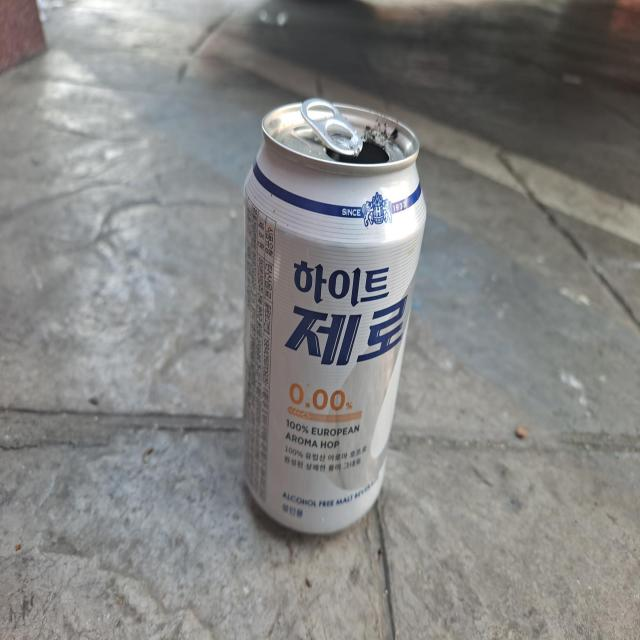can: (244, 97, 426, 534)
